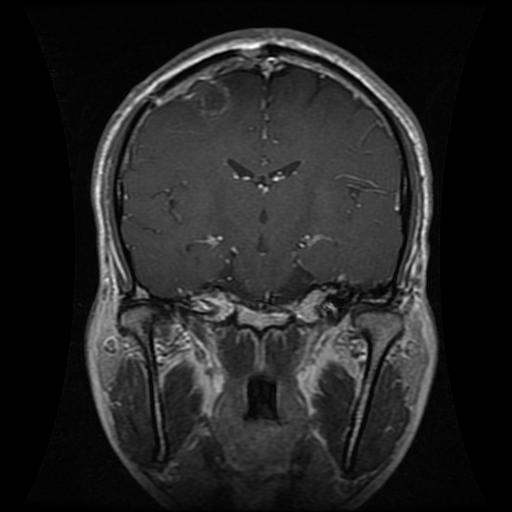Gliomia_tumour: (186, 74, 235, 119)
